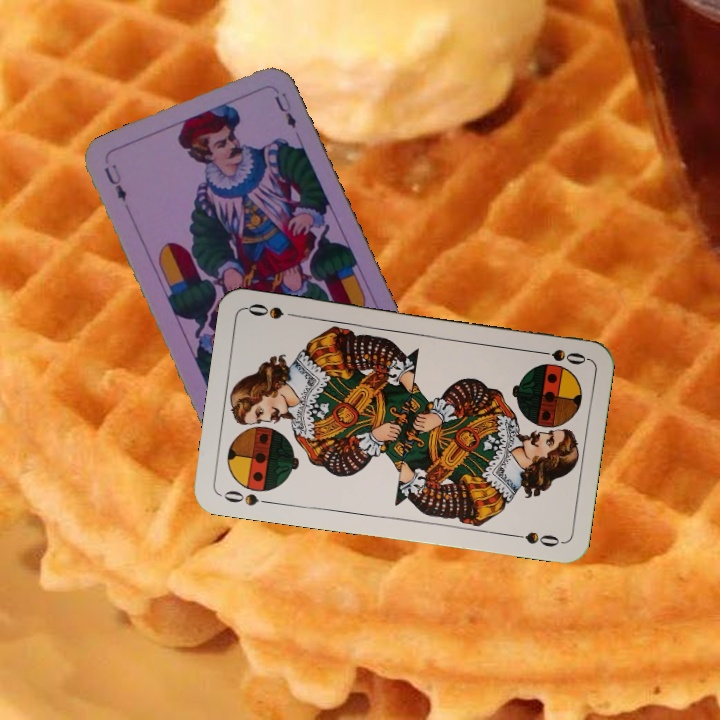EU: (100, 160, 129, 204)
SO: (530, 345, 589, 367), (217, 486, 276, 508)
